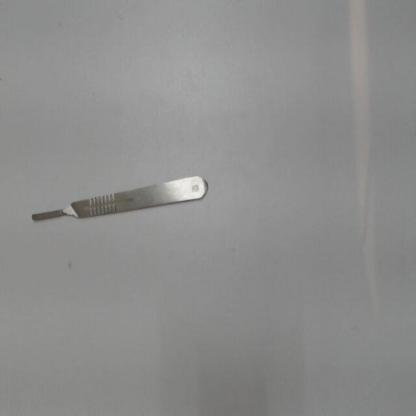No.4 BP Handle: (21, 163, 212, 237)
